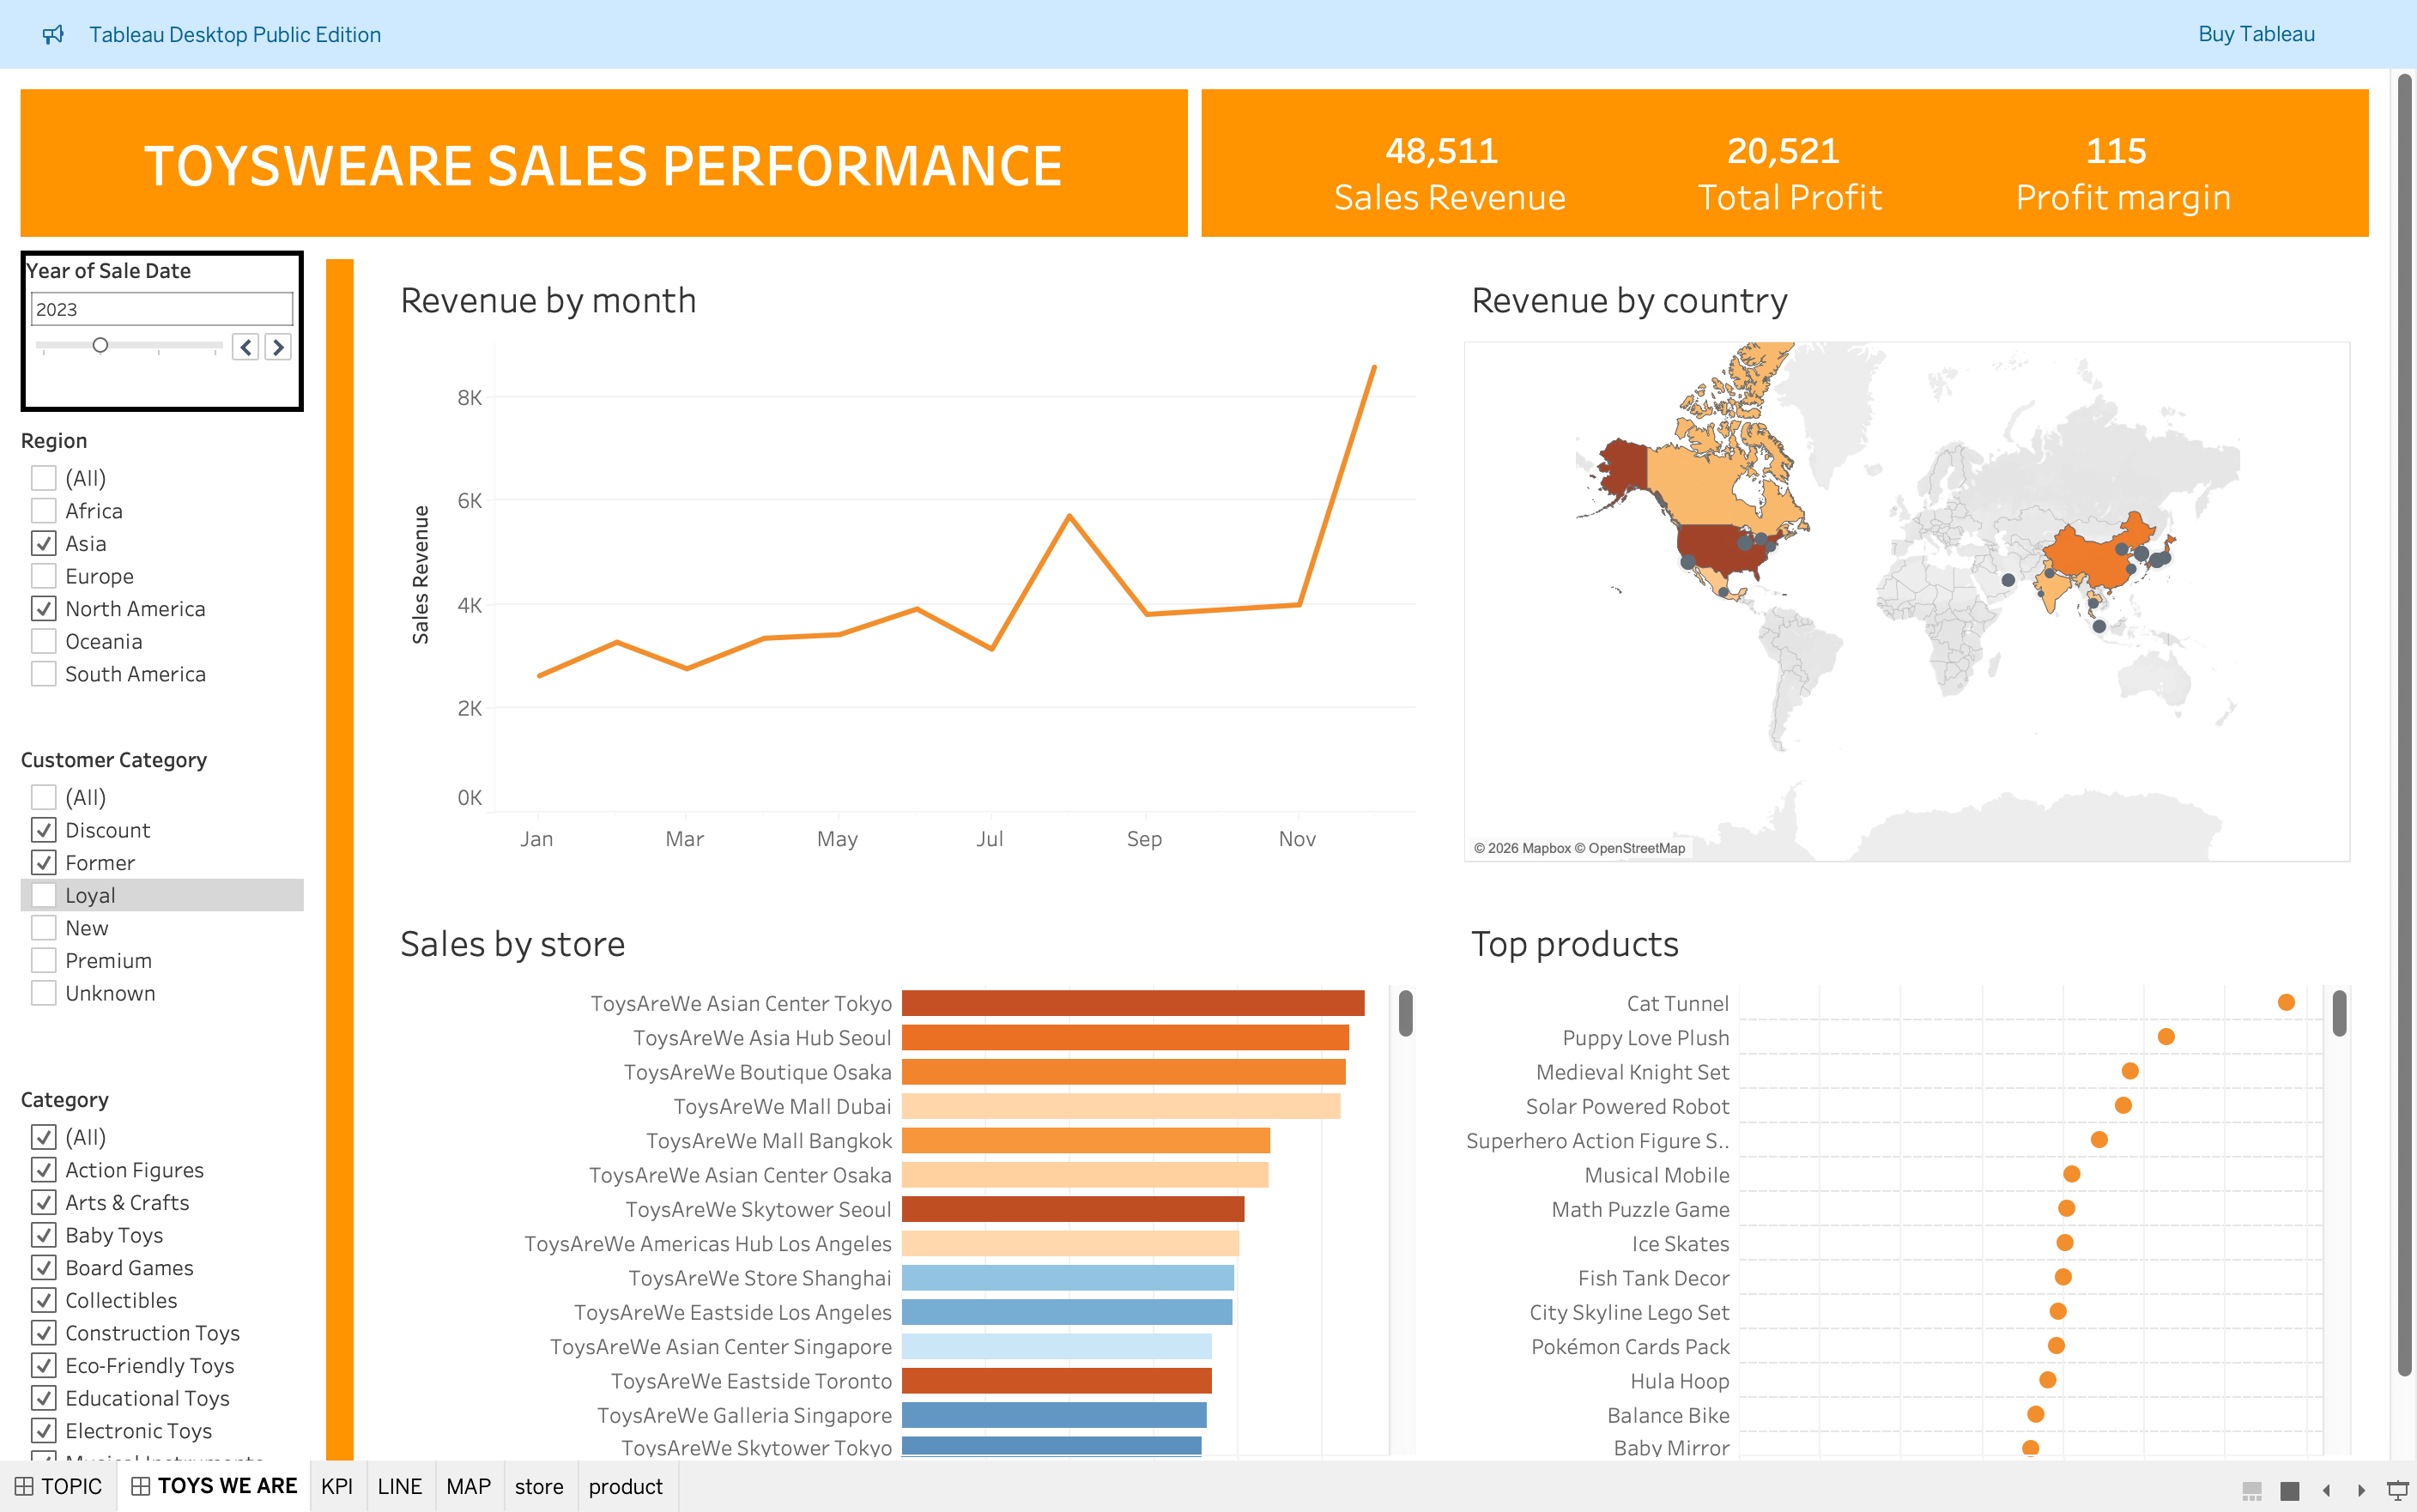

What the dashboard file says about the page in this screenshot:
{"tool":"tableau","page":{"name":"TOYS WE ARE","canvas":[1000,1000],"units":"permille","ordinal":1},"visuals":[{"type":"text","box":[5.6,7.4,494.4,109.7]},{"type":"worksheet","title":"KPI","mark":"Automatic","box":[500,7.4,494.4,109.7]},{"type":"filter","title":"LINE","param":"[federated.021gmxs136ddjb10xk76o0uzdebf].[yr:Sale Date:ok]","box":[5.6,117.1,124.3,94.5]},{"type":"blank","box":[130,117.1,24.3,875.5]},{"type":"worksheet","title":"LINE","mark":"Automatic","rows":["Calculation_91971973608566784"],"cols":["Sale Date"],"box":[161.3,126.4,434.8,419.2]},{"type":"worksheet","title":"MAP","mark":"Automatic","box":[610.1,126.4,377.2,419.2]},{"type":"filter","title":"LINE","param":"[federated.021gmxs136ddjb10xk76o0uzdebf].[none:Region:nk]","box":[5.6,211.6,124.3,172.2]},{"type":"filter","title":"LINE","param":"[federated.021gmxs136ddjb10xk76o0uzdebf].[none:CustomerCategory:nk]","box":[5.6,383.8,124.3,183.3]},{"type":"worksheet","title":"store","mark":"Automatic","rows":["StoreName"],"cols":["Calculation_91971973608566784"],"box":[161.3,564.1,434.8,419.2]},{"type":"worksheet","title":"product","mark":"Circle","rows":["ProductName"],"cols":["Calculation_91971973608566784"],"box":[610.1,564.1,377.2,419.2]},{"type":"filter","title":"LINE","param":"[federated.021gmxs136ddjb10xk76o0uzdebf].[none:Category:nk]","box":[5.6,567.1,124.3,399.1]}]}

Visuals, with their boxes on the dashboard's canvas, which has no fixed pixel size, in thousandths of its width and height (x1, y1, x2, y2). These are canvas units, not pixel positions in the 2417x1512 screenshot, which may show the page scaled, cropped or inside an application window:
text: <bbox>6, 7, 500, 117</bbox>
"KPI" worksheet: <bbox>500, 7, 994, 117</bbox>
"LINE" filter: <bbox>6, 117, 130, 212</bbox>
blank: <bbox>130, 117, 154, 993</bbox>
"LINE" worksheet: <bbox>161, 126, 596, 546</bbox>
"MAP" worksheet: <bbox>610, 126, 987, 546</bbox>
"LINE" filter: <bbox>6, 212, 130, 384</bbox>
"LINE" filter: <bbox>6, 384, 130, 567</bbox>
"store" worksheet: <bbox>161, 564, 596, 983</bbox>
"product" worksheet (Circle marks): <bbox>610, 564, 987, 983</bbox>
"LINE" filter: <bbox>6, 567, 130, 966</bbox>
